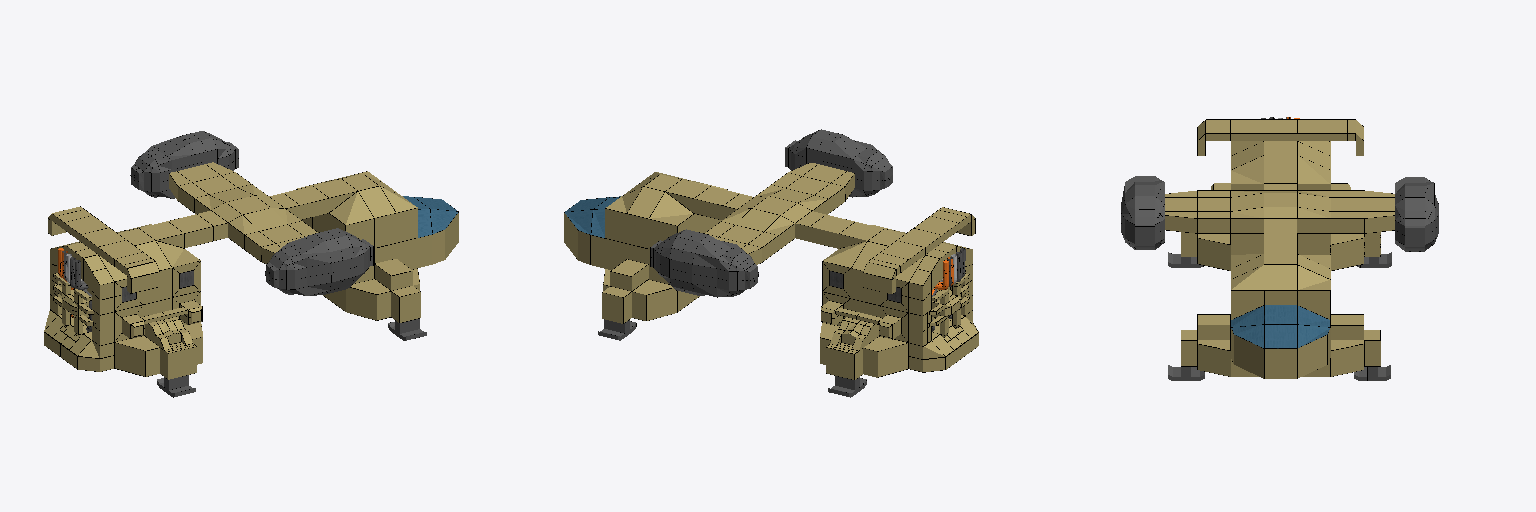
3 views of the same model, side by side, from view 1: azimuth 30°, elevation 25°; view 2: azimuth 150°, elevation 25°; view 3: azimuth 270°, elevation 25° (orthographic).
Parts seen in each view (by area): view 1: carry_all_Cube.009, engine_jet_Cube.011, back_right_Cube.002, front_right_Cube.001; view 2: carry_all_Cube.009, engine_jet_Cube.011, back_left_Cube.005, front_left_Cube.004; view 3: carry_all_Cube.009, engine_jet_Cube.011.
Boxes of the visible parts, x1,y1,x2,y2 form: carry_all_Cube.009: [44, 162, 458, 379]; engine_jet_Cube.011: [130, 131, 373, 295]; back_right_Cube.002: [157, 375, 195, 397]; front_right_Cube.001: [388, 319, 426, 340]; carry_all_Cube.009: [564, 163, 978, 379]; engine_jet_Cube.011: [650, 129, 892, 297]; back_left_Cube.005: [828, 376, 866, 397]; front_left_Cube.004: [598, 319, 636, 340]; carry_all_Cube.009: [1165, 119, 1394, 378]; engine_jet_Cube.011: [1121, 176, 1438, 251].
Size of the model in its own units: 27 by 9.14 by 19.01.
11 materials, 7 textured.